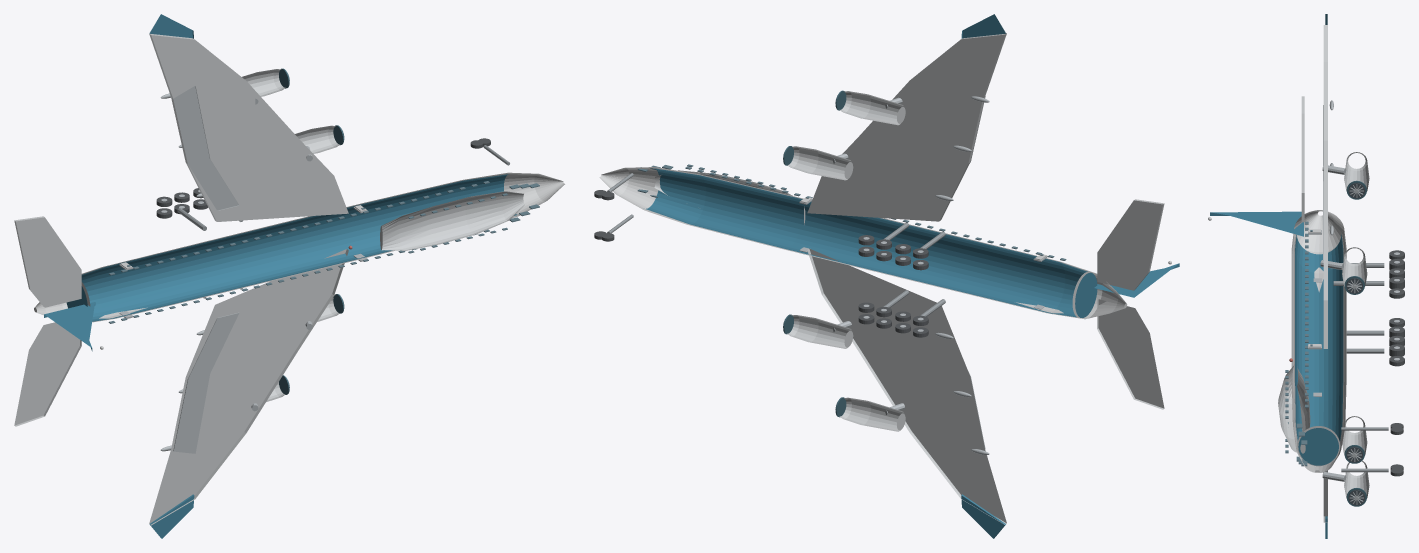
The model's file is boeing_747_detailed.glb.
3 views of the same model, side by side, from view 1: azimuth 30°, elevation 25°; view 2: azimuth 150°, elevation 25°; view 3: azimuth 270°, elevation 25° (orthographic).
Parts seen in each view (by area): view 1: lower_belly_3, swept_main_wing_45, swept_main_wing_5, 747_upper_deck_hump_2, horizontal_stabilizer_87, horizontal_stabilizer_86, wing_flaps_6, wing_flaps_46, 747_airliner_body_1, tall_vertical_tail_85, white_upper_layer_4, high_bypass_turbofan_51 (+2 smaller); view 2: lower_belly_3, swept_main_wing_45, swept_main_wing_5, horizontal_stabilizer_87, horizontal_stabilizer_86, 747_airliner_body_1, high_bypass_turbofan_28, high_bypass_turbofan_51, high_bypass_turbofan_11, high_bypass_turbofan_68, white_upper_layer_4, raked_wingtip_7; view 3: lower_belly_3, 747_airliner_body_1, swept_main_wing_45, 747_upper_deck_hump_2, tall_vertical_tail_85, white_upper_layer_4, high_bypass_turbofan_51, high_bypass_turbofan_68, horizontal_stabilizer_87, high_bypass_turbofan_11, high_bypass_turbofan_28.
Part boxes in pixels (box(x1,y1,x2,y2)): lower_belly_3: box(66, 174, 517, 321); swept_main_wing_45: box(149, 33, 348, 221); swept_main_wing_5: box(149, 249, 348, 525); 747_upper_deck_hump_2: box(380, 191, 524, 250); horizontal_stabilizer_87: box(14, 216, 81, 307); horizontal_stabilizer_86: box(14, 322, 81, 426); wing_flaps_6: box(173, 312, 239, 453); wing_flaps_46: box(173, 86, 239, 210); 747_airliner_body_1: box(34, 172, 564, 322); tall_vertical_tail_85: box(44, 302, 95, 351); white_upper_layer_4: box(81, 173, 516, 321); high_bypass_turbofan_51: box(295, 125, 339, 153); lower_belly_3: box(646, 168, 1097, 317); swept_main_wing_45: box(807, 33, 1006, 221); swept_main_wing_5: box(807, 248, 1006, 524); horizontal_stabilizer_87: box(1097, 199, 1164, 290); horizontal_stabilizer_86: box(1097, 299, 1164, 409); 747_airliner_body_1: box(599, 167, 1127, 319); high_bypass_turbofan_28: box(839, 397, 905, 431); high_bypass_turbofan_51: box(787, 146, 853, 180); high_bypass_turbofan_11: box(787, 315, 853, 348); high_bypass_turbofan_68: box(840, 91, 905, 125); white_upper_layer_4: box(647, 167, 1090, 317); raked_wingtip_7: box(961, 494, 1005, 538); lower_belly_3: box(1295, 234, 1343, 465); 747_airliner_body_1: box(1291, 210, 1346, 472); swept_main_wing_45: box(1323, 25, 1327, 348); 747_upper_deck_hump_2: box(1278, 366, 1310, 453); tall_vertical_tail_85: box(1210, 211, 1303, 236); white_upper_layer_4: box(1294, 234, 1344, 466); high_bypass_turbofan_51: box(1342, 247, 1367, 286); high_bypass_turbofan_68: box(1344, 152, 1369, 191); horizontal_stabilizer_87: box(1301, 96, 1304, 222); high_bypass_turbofan_11: box(1342, 416, 1367, 455); high_bypass_turbofan_28: box(1344, 460, 1369, 498).
Bounding box in the file's own units: 76 × 68.4 × 23.25.
